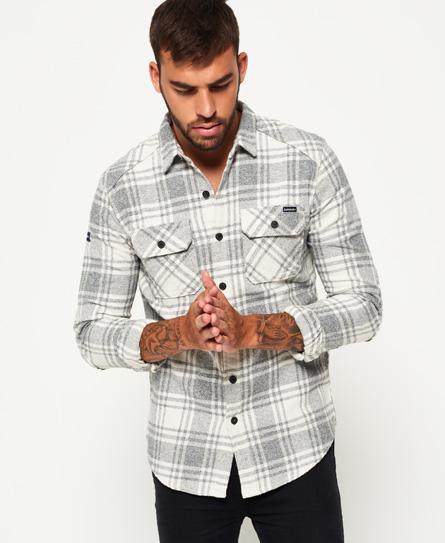teeshirt: (72, 103, 385, 503)
